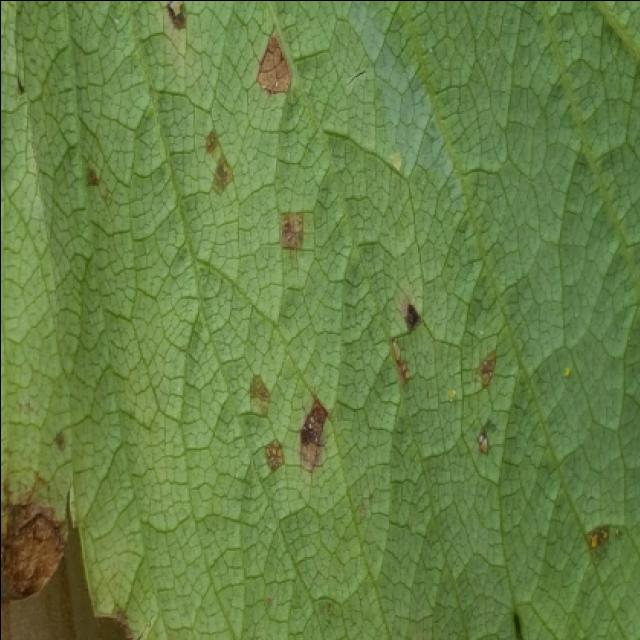Angular Leafspot: (2, 2, 623, 562)
